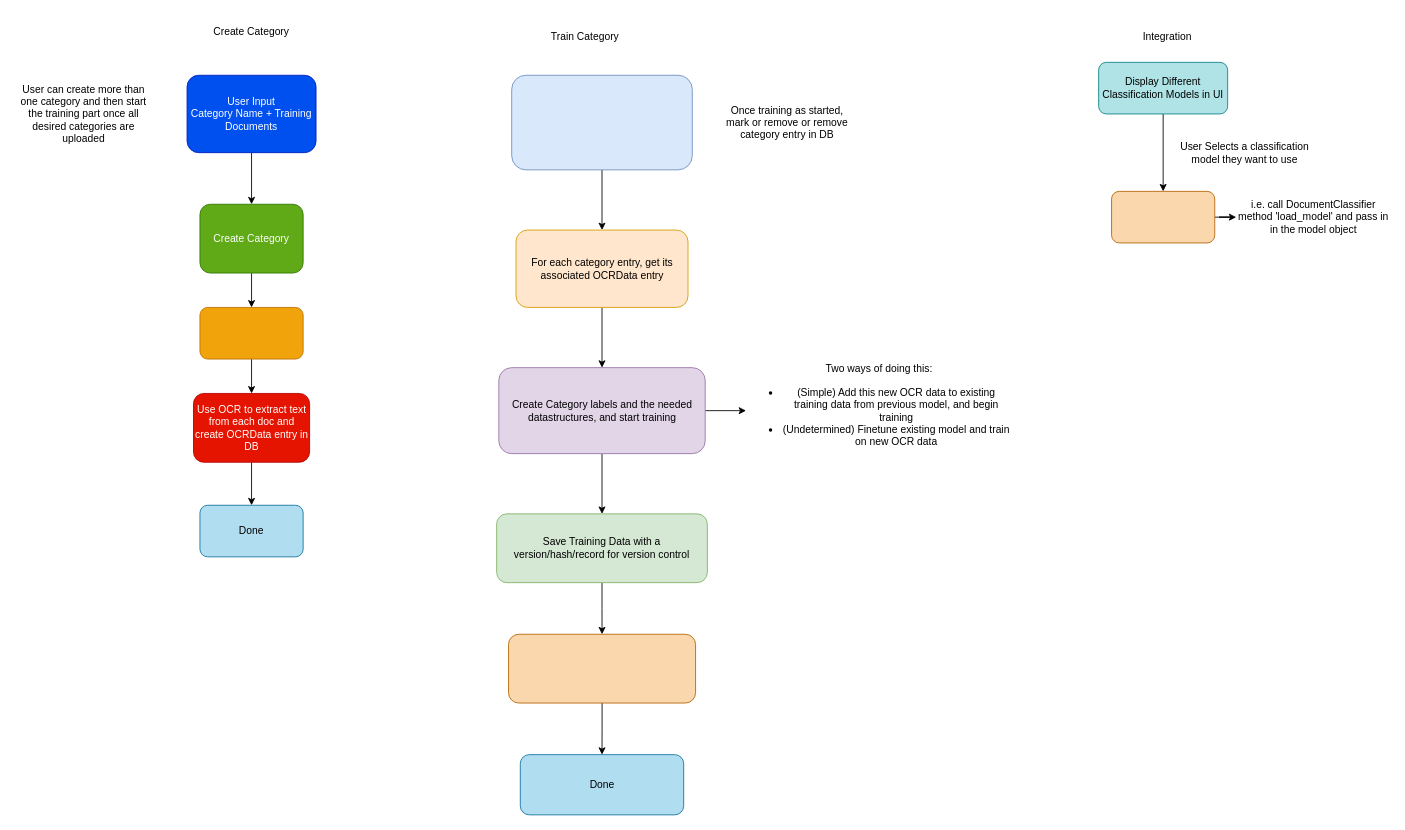
Some shapes in this 1405 by 830 pixel diagram are drawn without their labels. Here are the shapes that lost their labels. From the top down, the centre of each, then its label:
At point 601,122: "Get all categories from CategoryTrainingDocument table".
At point 1163,216: "Backend loads user selected model".
At point 251,333: "Create Document record in DB".
At point 602,668: "Test Model and record Metrics".
